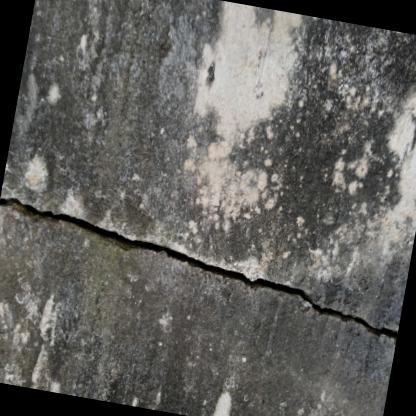crack: (0, 196, 398, 340)
